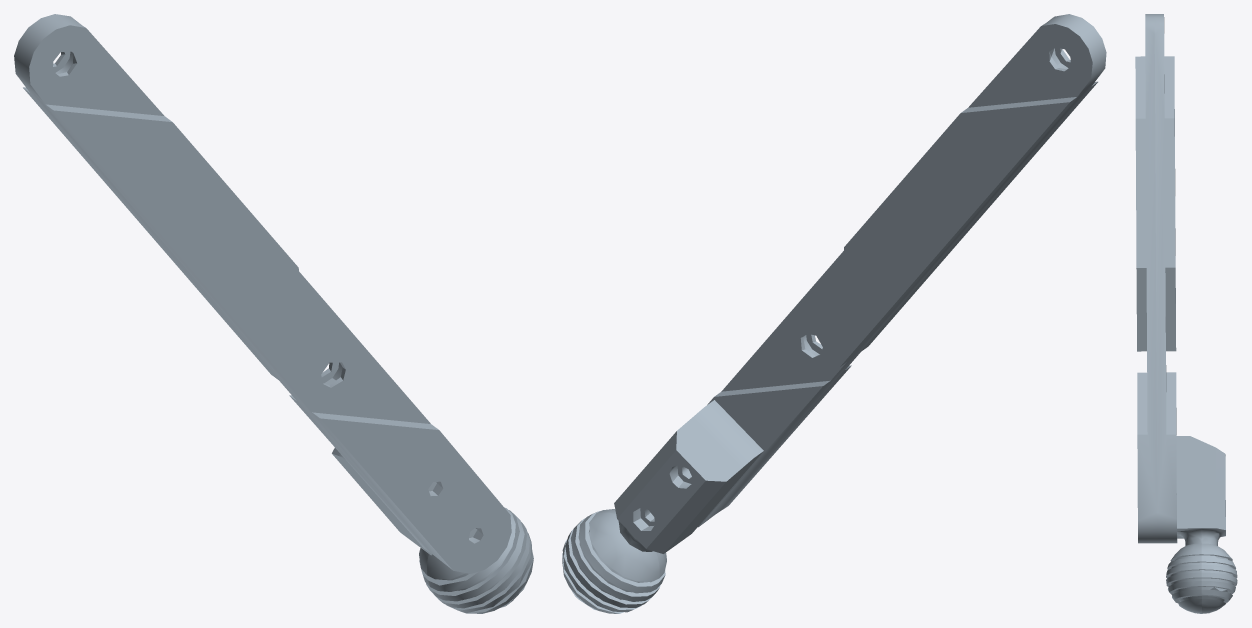
The picture shows the model from 3 angles, left to right: view 1: azimuth 30°, elevation 25°; view 2: azimuth 150°, elevation 25°; view 3: azimuth 270°, elevation 25°; orthographic projection. The views are drawn at different scales.
Visible parts, largest first — view 1: tmp_export_br_link2; view 2: tmp_export_br_link2; view 3: tmp_export_br_link2.
Part boxes in pixels (bbox=[...]): tmp_export_br_link2: bbox=[14, 14, 533, 613]; tmp_export_br_link2: bbox=[562, 14, 1106, 613]; tmp_export_br_link2: bbox=[1135, 14, 1237, 613].
Bounding box in the file's own units: 0.1202 × 0.0313 × 0.1541.
